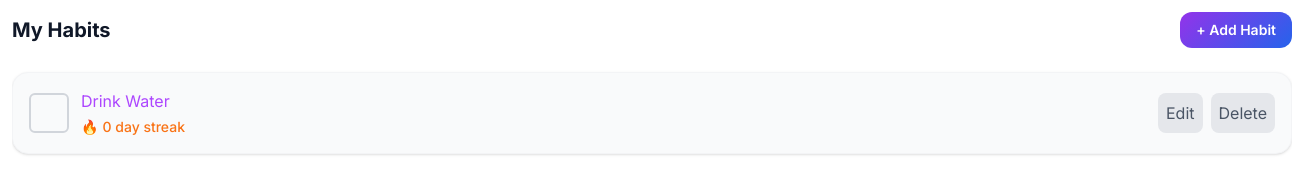
habit form › toggles completion and updates the streak display
The width and height of the screenshot is (1304, 172).
Expected: the element with test id "habit-streak-drink-water" shows "0 day streak", [81,118,185,135]
Note: toggle completion
Click the button with test id "habit-complete-drink-water" at point(49, 113), box [29,93,69,133]
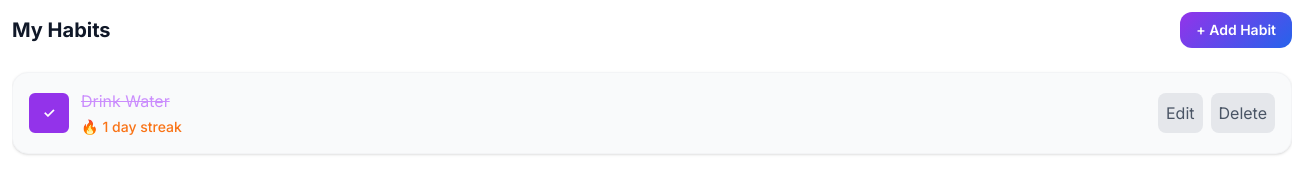
Now the element with test id "habit-streak-drink-water" shows "1 day streak", box [81,118,182,135]
